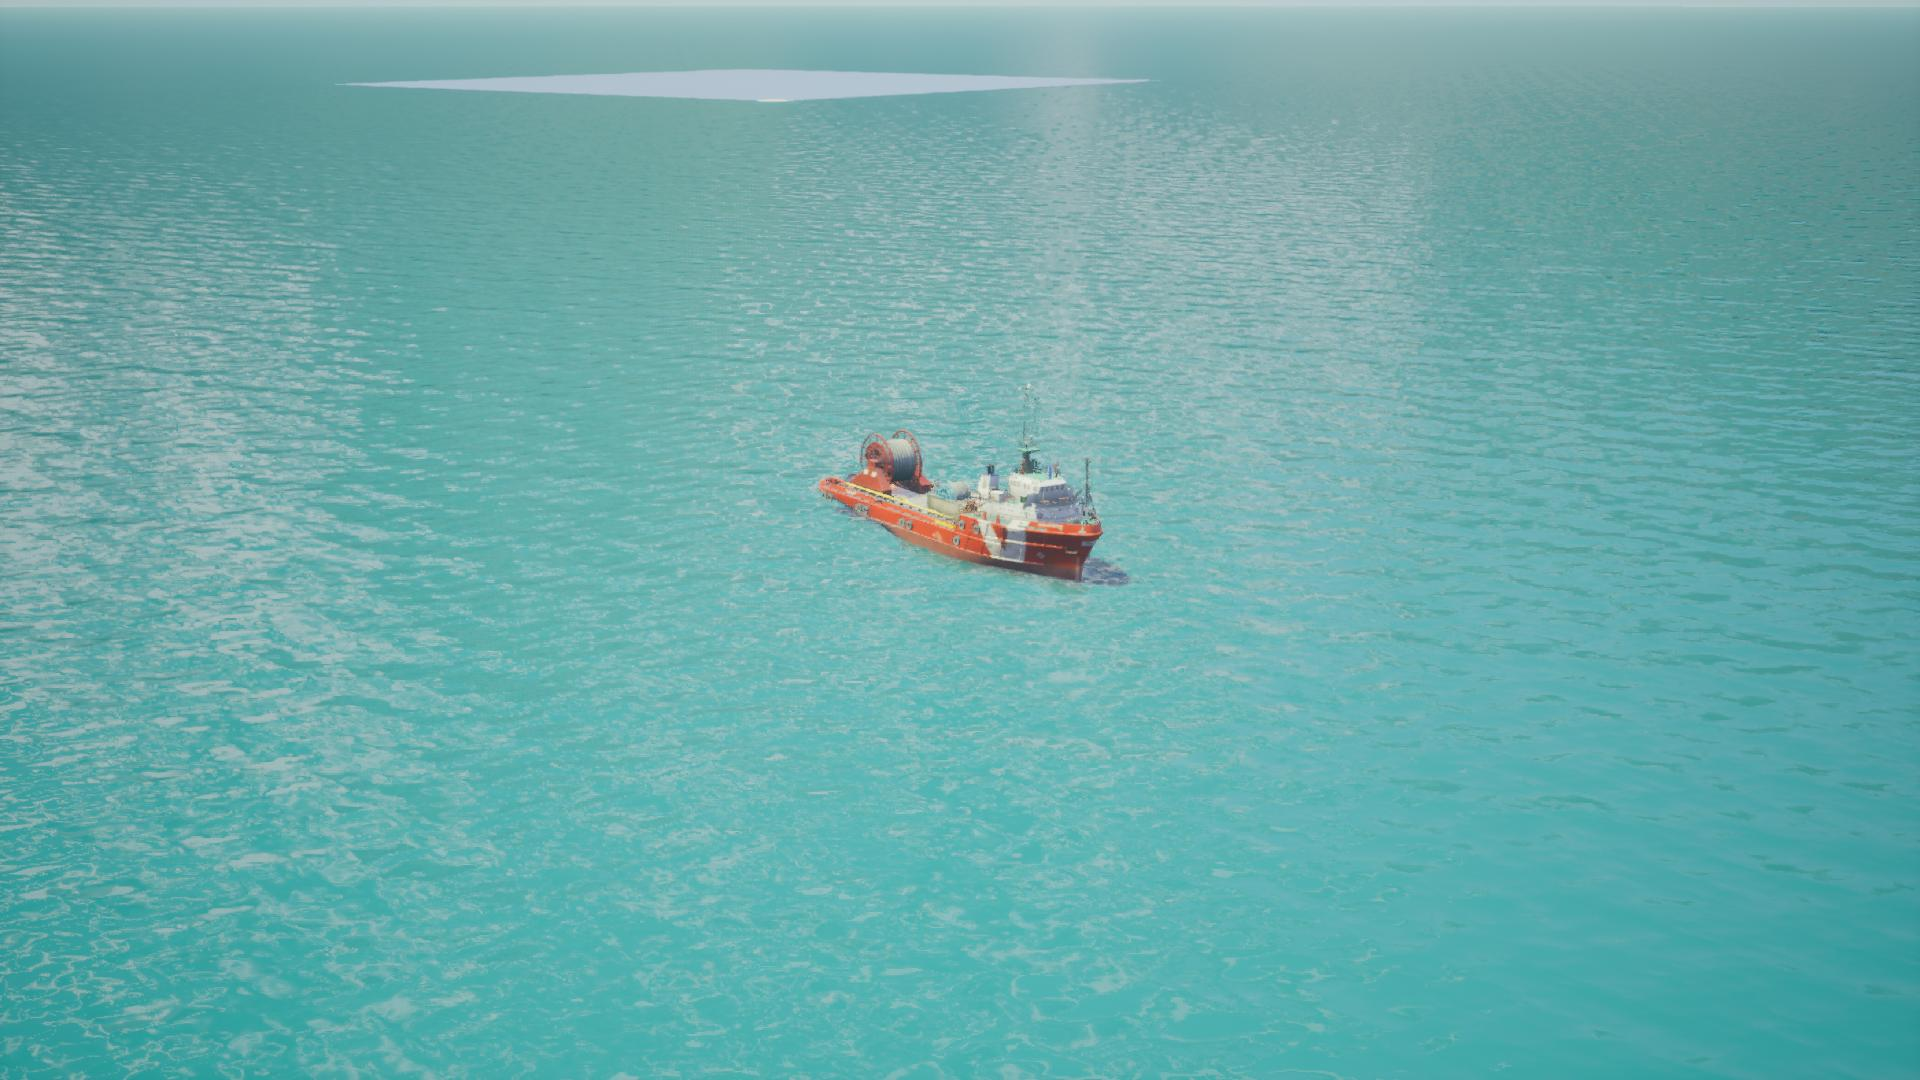Tug Boat: (816, 465, 1109, 583)
